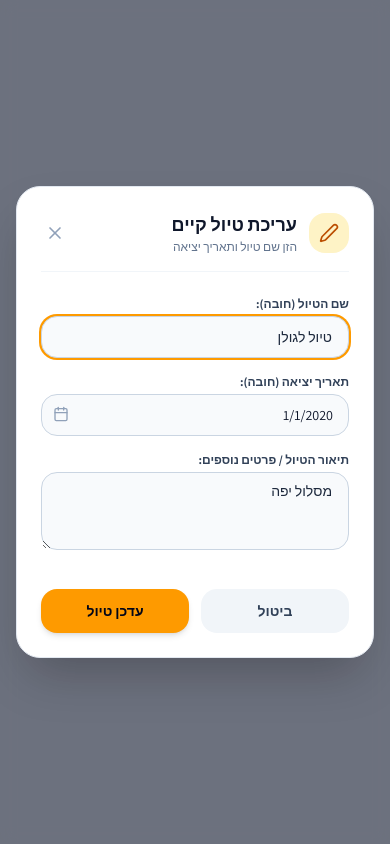
Test case: TourModal › blocks submit and shows an inline error (not a toast) when the date is not in the future
What coordinates should you click on to do the following:
click the button "עדכן טיול"
I would click on:
 (115, 611)
Its box is [41,589,189,633].
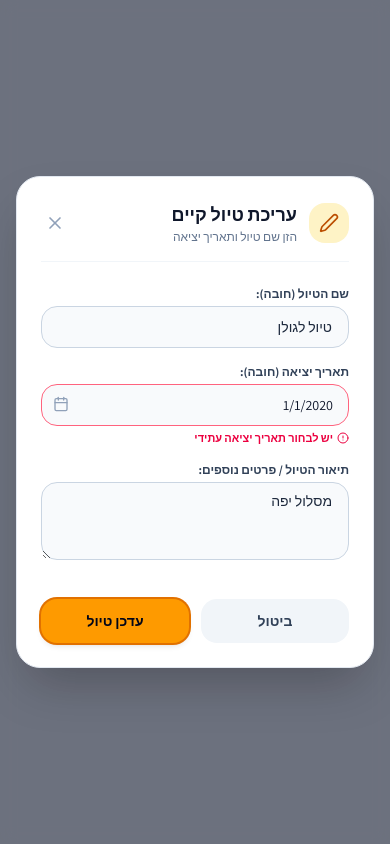
Check: the text "יש לבחור תאריך יציאה עתידי" is shown, box [194,430,333,446]
